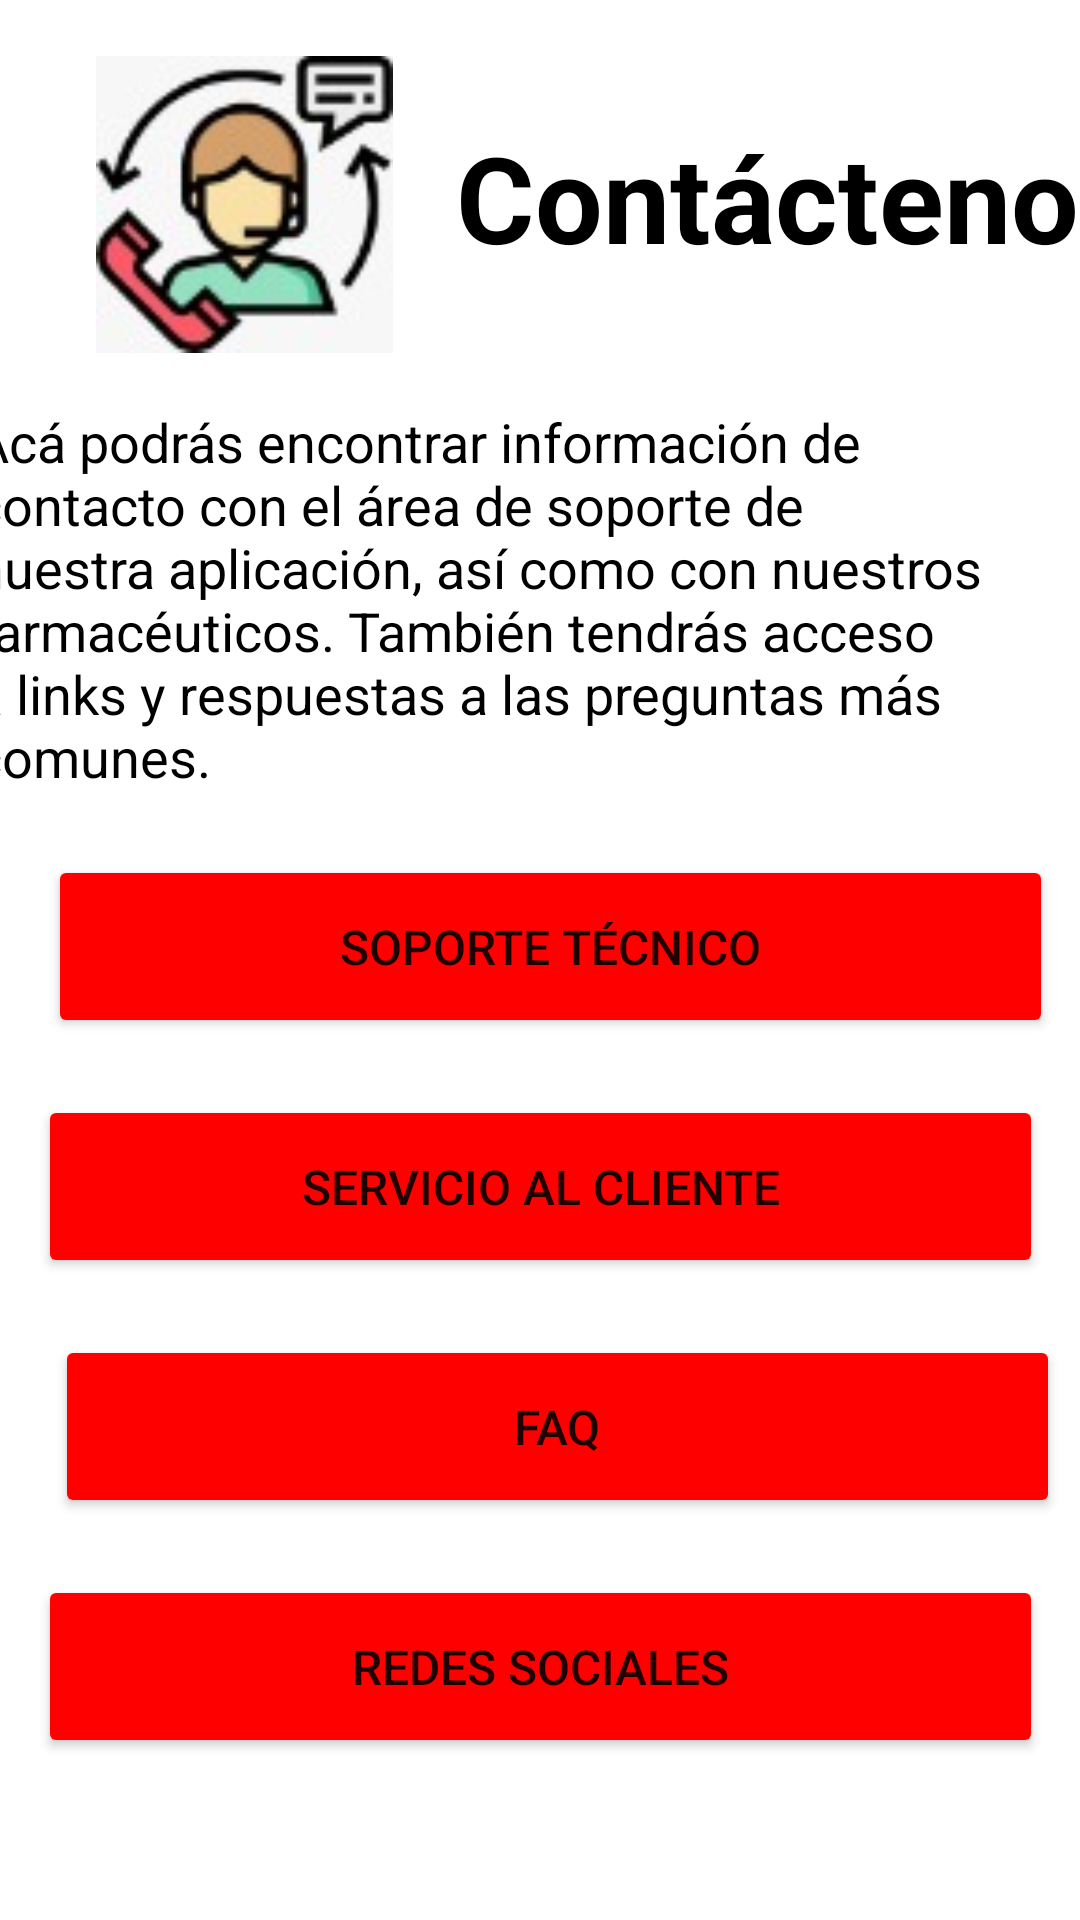

Named icons in this screenshot (1080px x 1920px) and their bounding boxes, bbox=(x1, y1, x2, y2):
contactenos: bbox=(96, 56, 393, 353)
